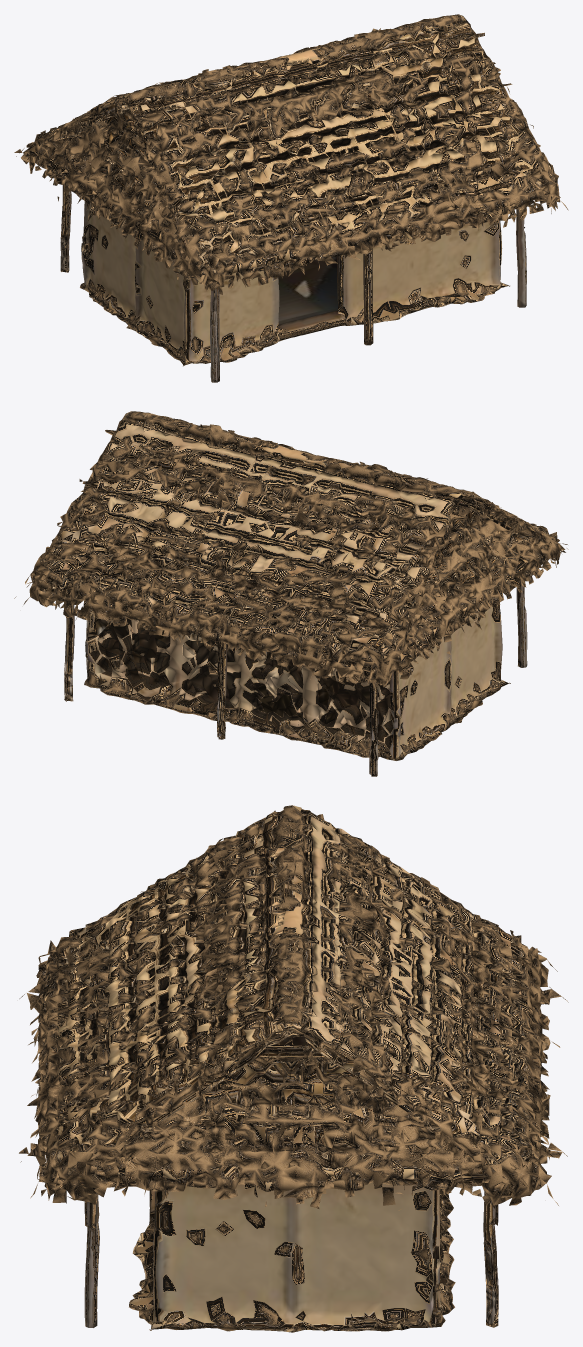
The model's file is farm__hut.glb.
3 views of the same model, one above another, from view 1: azimuth 30°, elevation 25°; view 2: azimuth 150°, elevation 25°; view 3: azimuth 270°, elevation 25° (orthographic). The views are drawn at different scales.
Size of the model in its own units: 1.87 by 1.09 by 1.71.
1 material, 1 textured.
